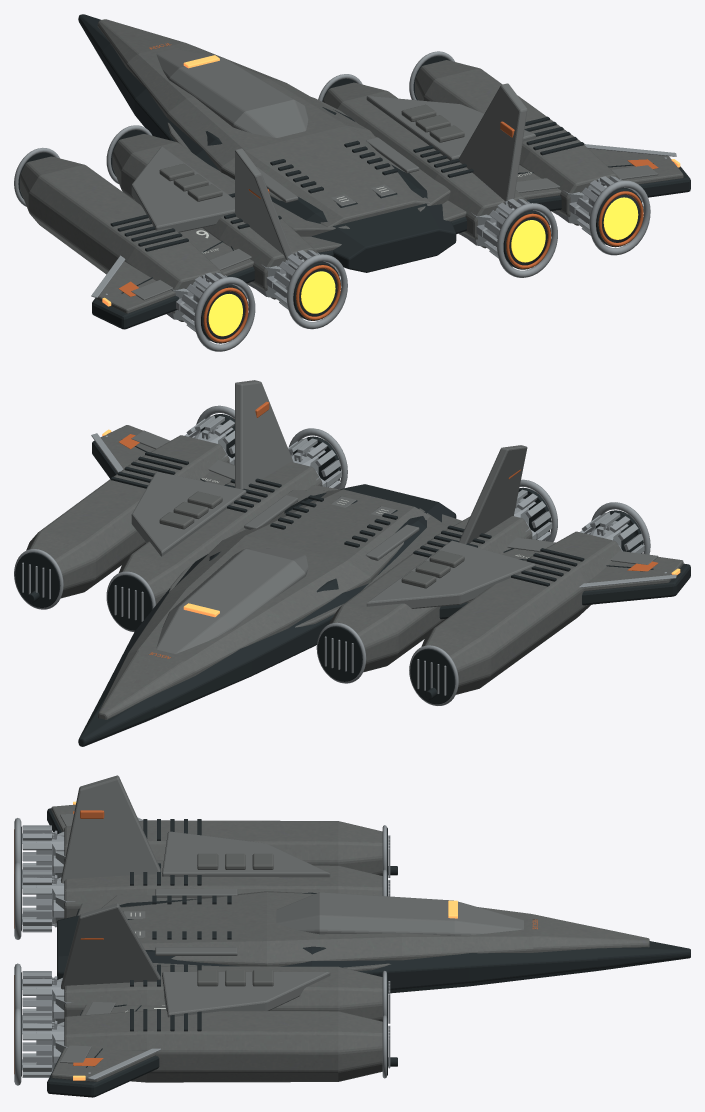
Rendered from super.glb.
3 renders of one model, top to bottom at view 1: azimuth 30°, elevation 25°; view 2: azimuth 150°, elevation 25°; view 3: azimuth 270°, elevation 25°, orthographic.
Parts seen in each view (by area): view 1: 主装甲_陶瓷金属涂层, 次级装甲_深色钢, 碳化结构与接缝, 拉丝钛合金, 热喷口, 识别色; view 2: 主装甲_陶瓷金属涂层, 次级装甲_深色钢, 碳化结构与接缝, 拉丝钛合金, 识别色; view 3: 主装甲_陶瓷金属涂层, 次级装甲_深色钢, 碳化结构与接缝, 拉丝钛合金, 识别色.
Part boxes in pixels (x1=…): 主装甲_陶瓷金属涂层: x1=20, y1=19, x2=683, y2=321; 次级装甲_深色钢: x1=131, y1=49, x2=658, y2=300; 碳化结构与接缝: x1=18, y1=14, x2=690, y2=343; 拉丝钛合金: x1=14, y1=51, x2=676, y2=351; 热喷口: x1=208, y1=197, x2=638, y2=336; 识别色: x1=118, y1=43, x2=658, y2=342; 主装甲_陶瓷金属涂层: x1=26, y1=425, x2=683, y2=719; 次级装甲_深色钢: x1=131, y1=380, x2=658, y2=653; 碳化结构与接缝: x1=15, y1=414, x2=690, y2=746; 拉丝钛合金: x1=14, y1=405, x2=676, y2=705; 识别色: x1=119, y1=401, x2=657, y2=658; 主装甲_陶瓷金属涂层: x1=51, y1=804, x2=649, y2=1082; 次级装甲_深色钢: x1=60, y1=775, x2=523, y2=1063; 碳化结构与接缝: x1=21, y1=808, x2=690, y2=1097; 拉丝钛合金: x1=14, y1=817, x2=390, y2=1085; 识别色: x1=14, y1=810, x2=537, y2=1073.
Size of the model in its own units: 10.29 by 2.51 by 10.46.
Materials: 8 (1 with a texture image).
